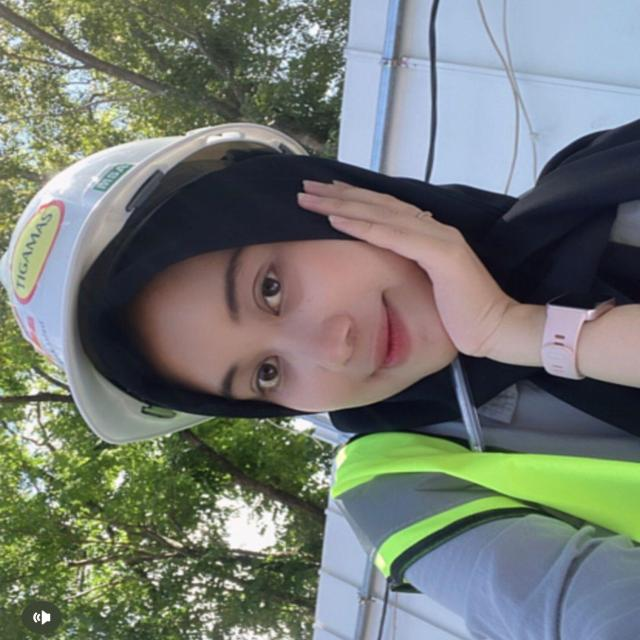safetyhelmet: (0, 112, 295, 446)
